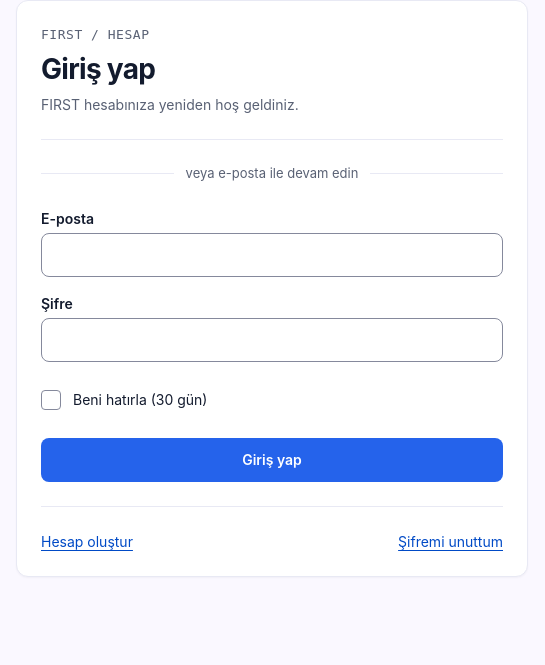
normal auth forms › shows CSRF failure and does not submit credentials
Type "member@example.test" into the field labelled "E-posta" at coordinates (272, 255), box [41,233,503,277]
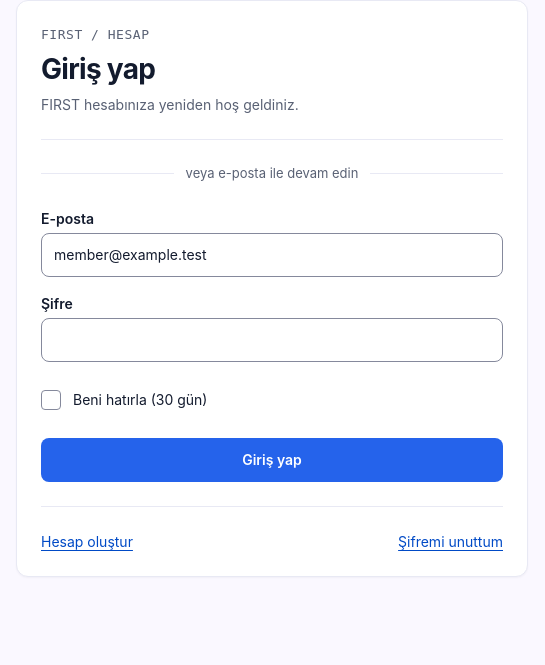
Type "Türkçe42!" into the password field labelled "Şifre" at coordinates (272, 340), box [41,318,503,362]
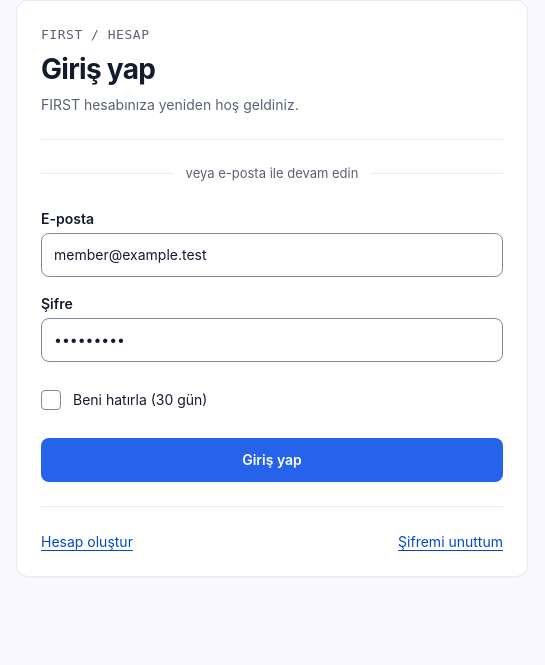
Submit the form "Giriş yap", box [41,208,503,482]
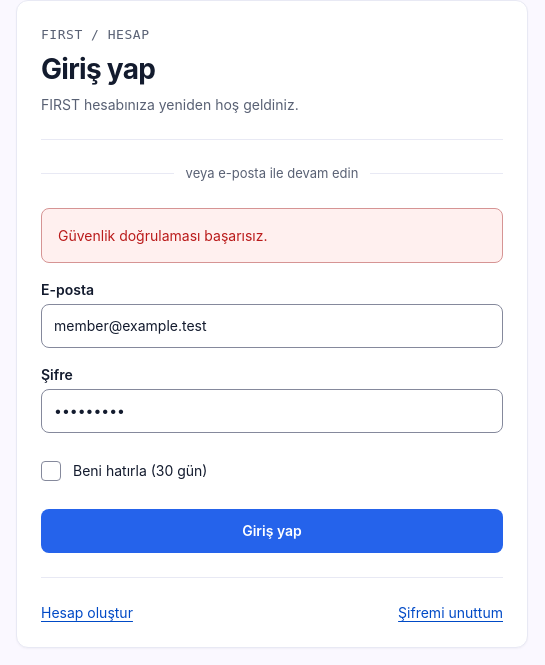
Expected: the message shows "Güvenlik", [58,227,268,244]
